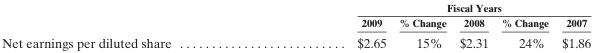table: (1, 0, 590, 49)
table column: (1, 0, 263, 49), (263, 0, 392, 49), (392, 0, 452, 49), (494, 0, 554, 49), (452, 0, 494, 49), (554, 0, 590, 49)
table column header: (1, 0, 590, 31)
table row: (1, 31, 590, 49), (1, 14, 590, 31), (1, 0, 590, 14)
table spanning cell: (263, 0, 590, 14)
